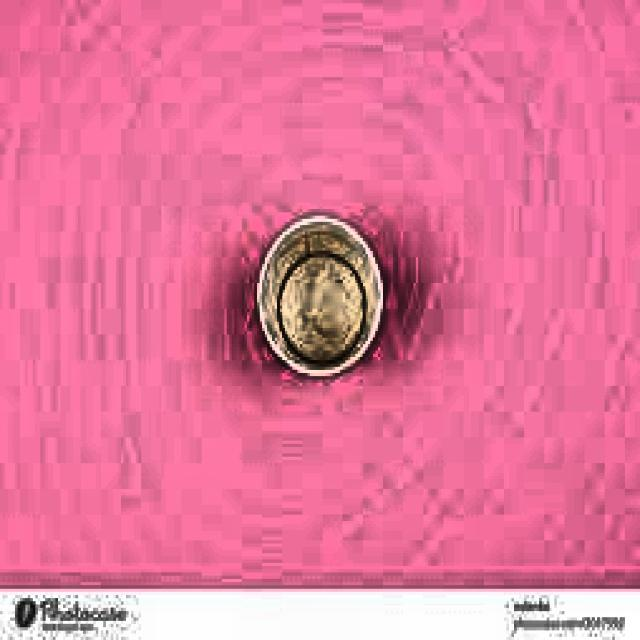Cup: (248, 213, 390, 382)
